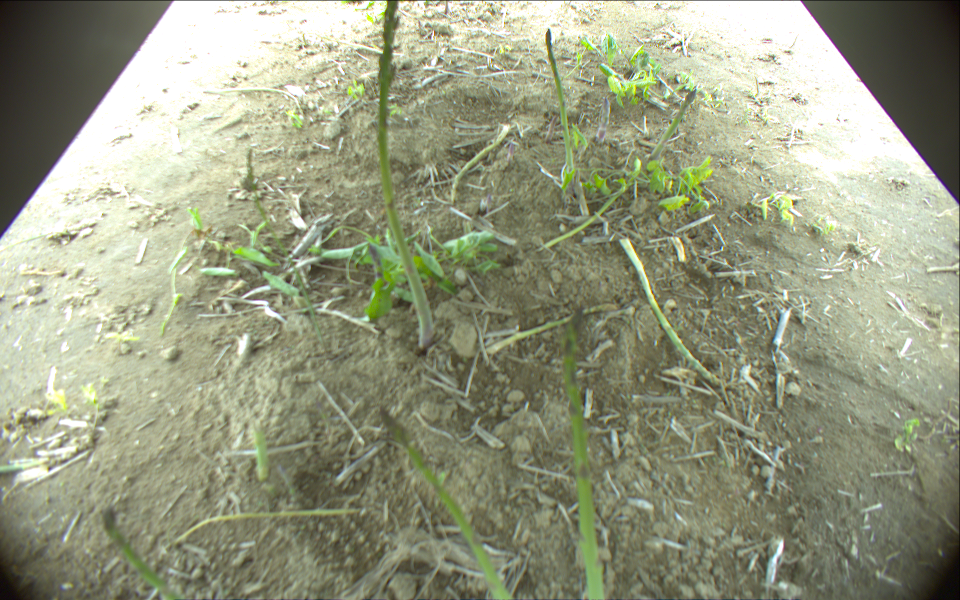aspa: (378, 408, 515, 600), (539, 88, 699, 252), (375, 1, 436, 348), (618, 238, 725, 387), (562, 307, 609, 600), (249, 194, 328, 351), (103, 506, 185, 600), (173, 506, 361, 545), (485, 302, 611, 353), (541, 29, 575, 184), (447, 124, 512, 201), (363, 243, 386, 319), (249, 417, 272, 480)
